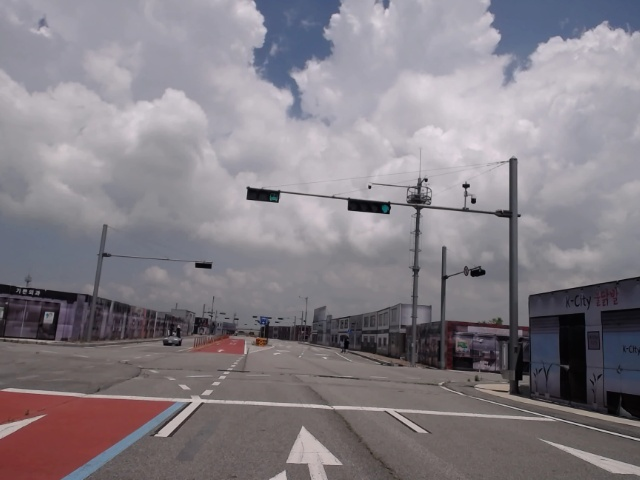straight_green_4: (348, 198, 394, 213)
